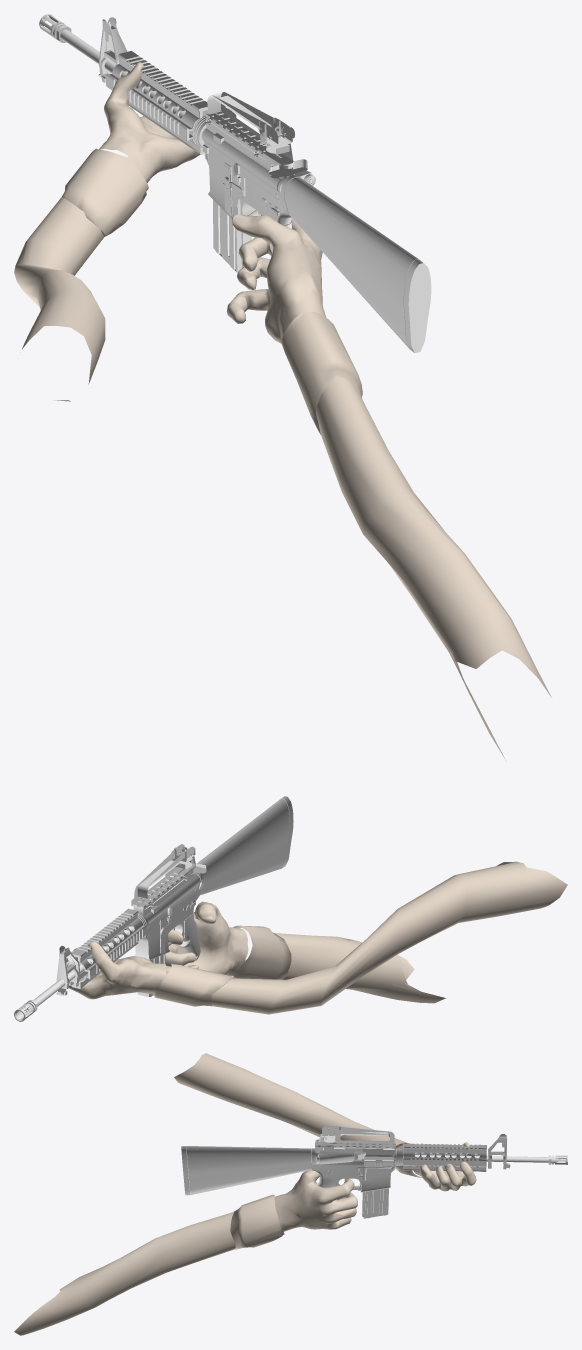
File: m16_posed.glb
3 views of the same model, one above another, from view 1: azimuth 30°, elevation 25°; view 2: azimuth 150°, elevation 25°; view 3: azimuth 270°, elevation 25° (orthographic). The views are drawn at different scales.
Visible parts, largest first — view 1: char, body, rail, sight2, mag, barrel, sight; view 2: char, body, rail, sight2, barrel, sight, grip; view 3: char, body, rail, sight2, mag, barrel, sight.
Part boxes in pixels (x1,y1,x2,y2): char: [14, 62, 551, 760]; body: [192, 111, 431, 352]; rail: [105, 51, 207, 154]; sight2: [206, 92, 294, 160]; mag: [213, 200, 251, 273]; barrel: [39, 14, 185, 117]; sight: [98, 17, 130, 82]; char: [66, 861, 567, 1014]; body: [123, 796, 293, 960]; rail: [66, 908, 147, 988]; sight2: [131, 844, 195, 909]; barrel: [14, 926, 133, 1021]; sight: [56, 946, 80, 995]; grip: [180, 912, 200, 960]; char: [14, 1053, 476, 1335]; body: [181, 1142, 403, 1195]; rail: [403, 1143, 486, 1171]; sight2: [318, 1126, 394, 1149]; mag: [362, 1188, 388, 1218]; barrel: [403, 1155, 567, 1164]; sight: [487, 1134, 510, 1169].
Size of the model in its own units: 0.6858 by 0.6198 by 1.43.
